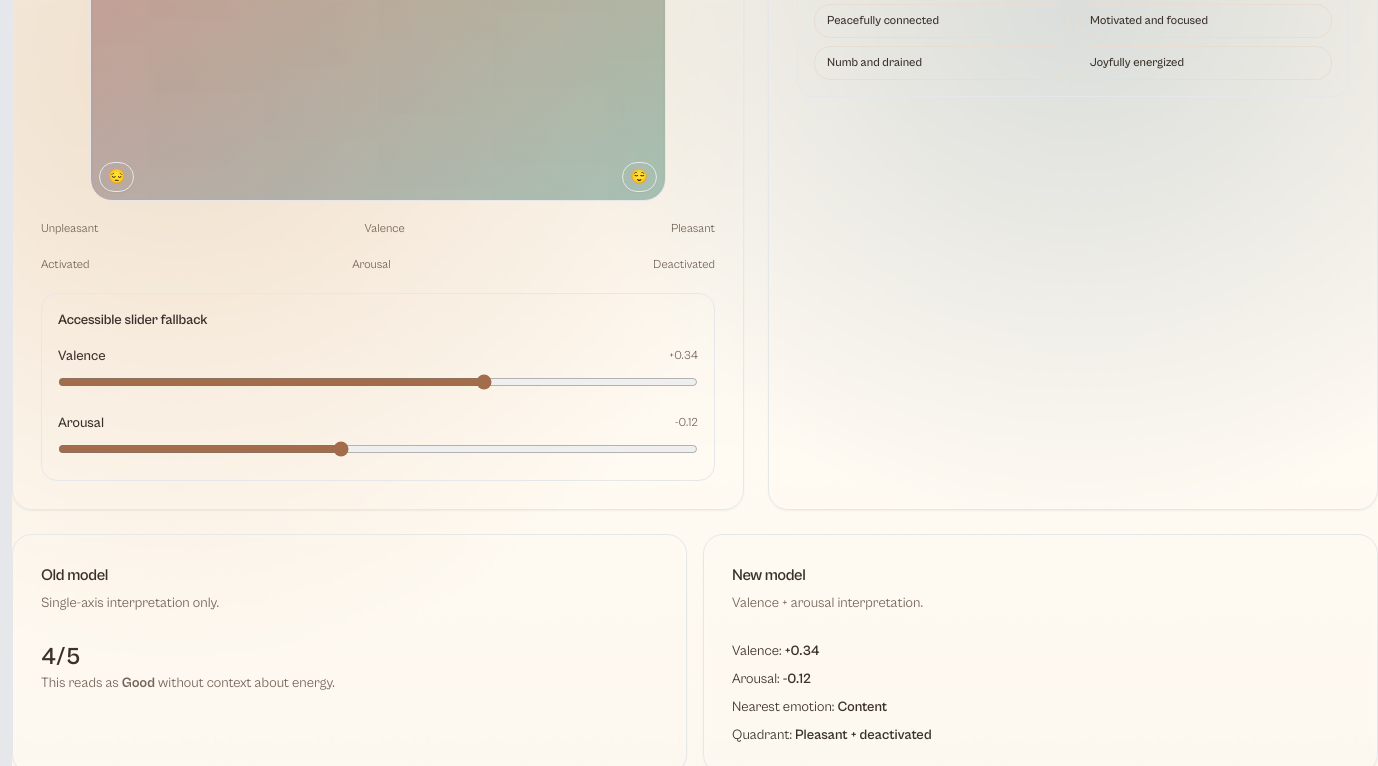
Scenario: MoodModelSandbox › updates insight card percentages when sliders change the point
(page scrolled)
Set the slider labelled "Valence" to "-0.9". click: (97, 382)
box: [58,374,698,390]
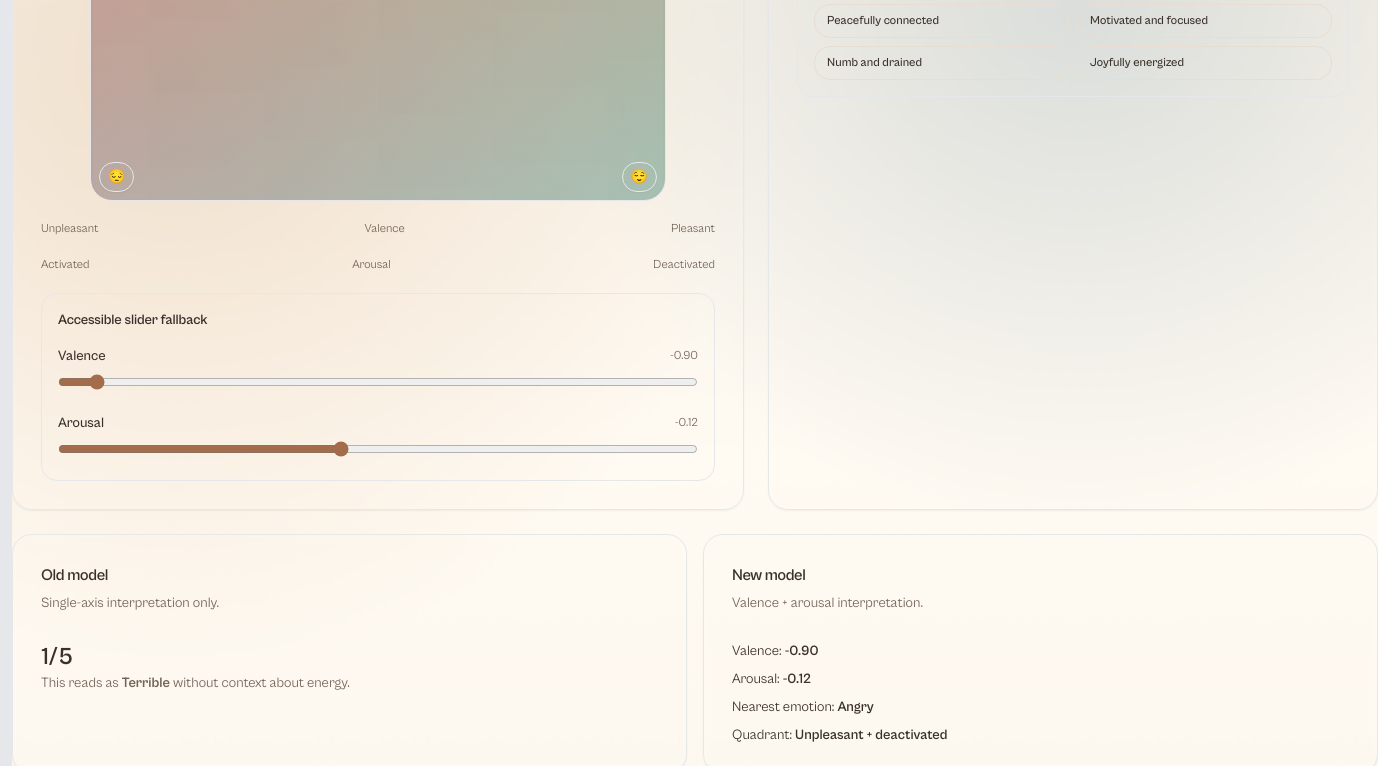
Set the slider labelled "Arousal" to "0.9". click: (659, 449)
box: [58,441,698,457]
(page scrolled)
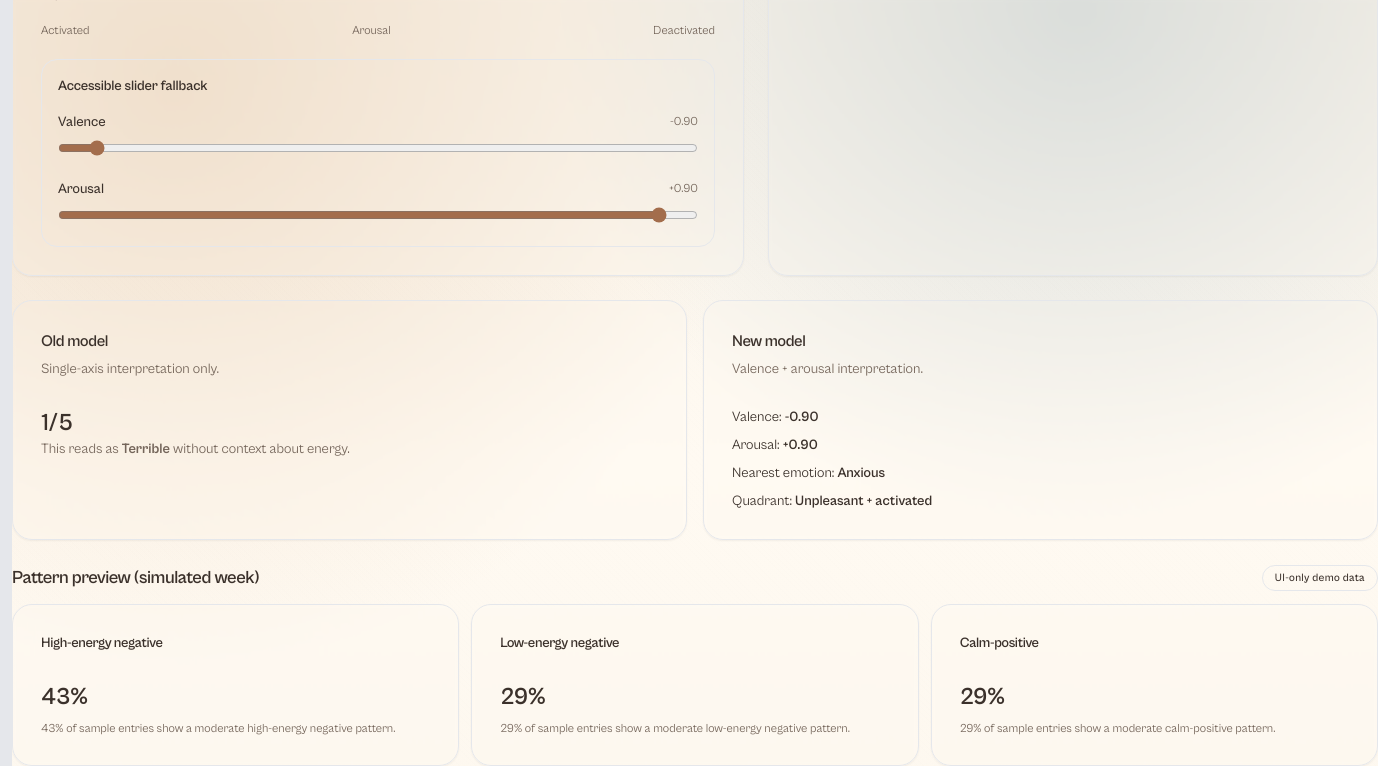
Now the text "43%" is shown, box [41,683,88,711]
